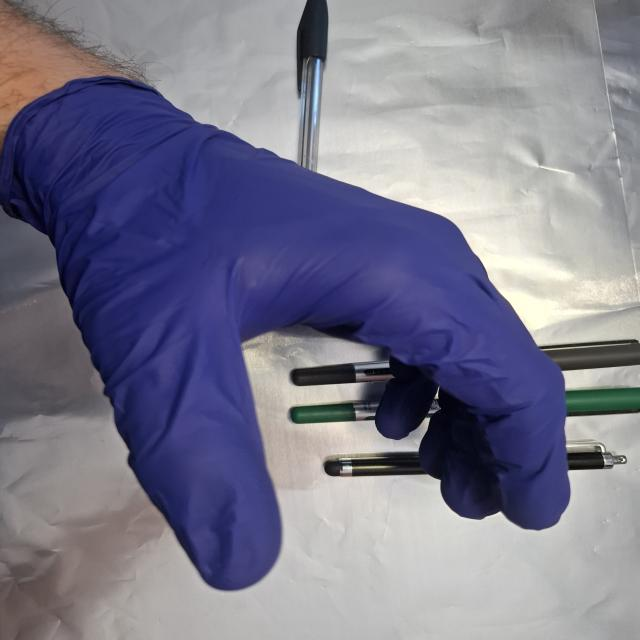glove_on: (7, 75, 576, 596)
